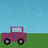vehicle: (2, 27, 26, 45)
